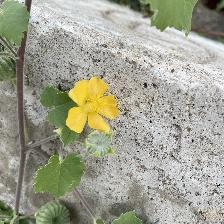indian mallow: (66, 77, 121, 137)
